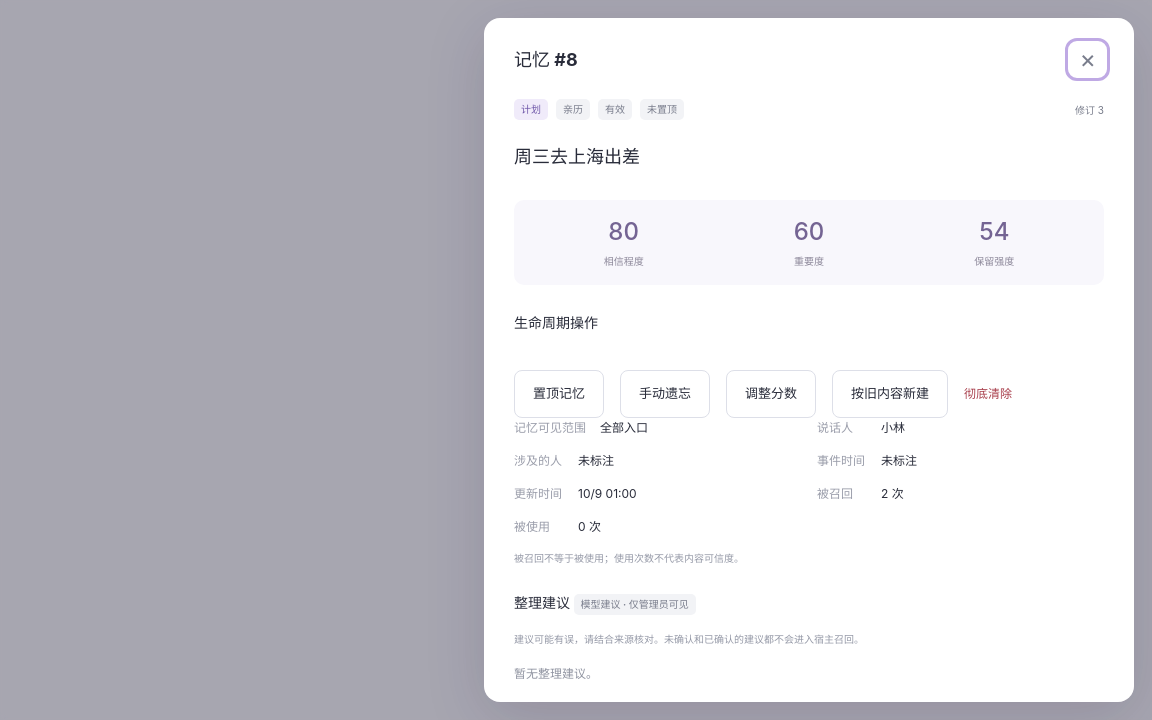
Test case: 无效分数 -1 不发送请求
This screenshot has width=1152, height=720.
Expected: the text "周三去上海出差" is shown, [514,146,640,167]
Click the button "调整分数". click: (771, 394)
box: [726,370,816,418]
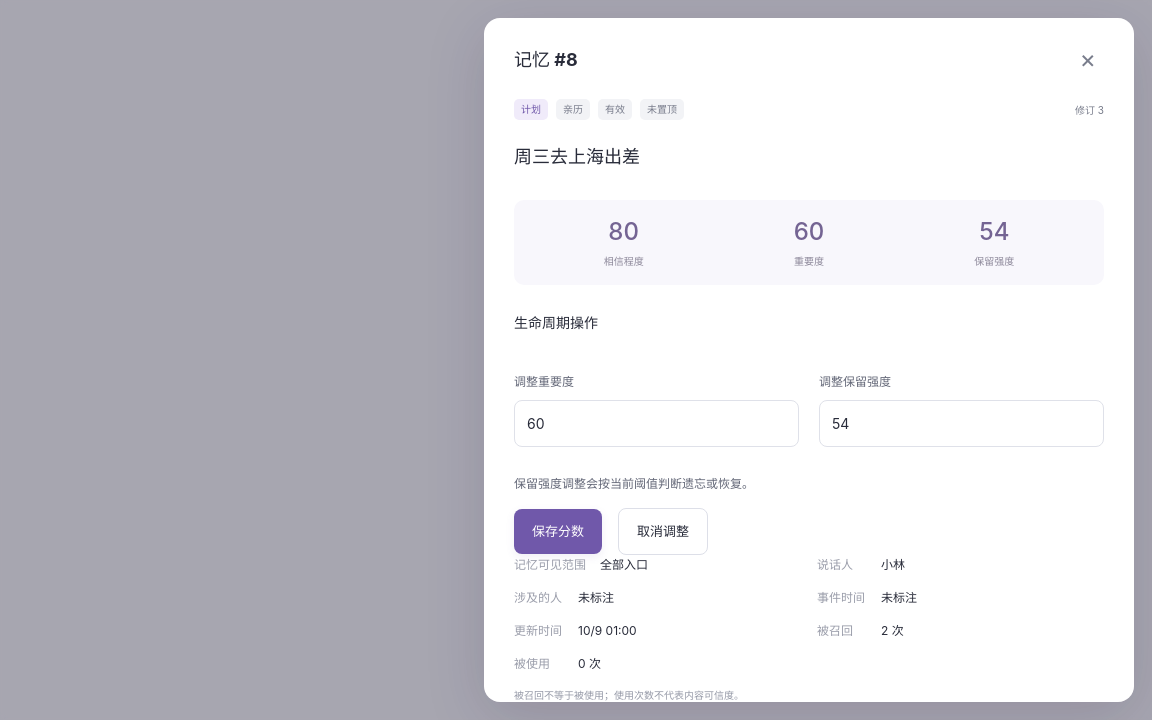
Replace the text in the number field labelled "调整重要度" with "-1". click: (656, 424)
box: [514,400,799,447]
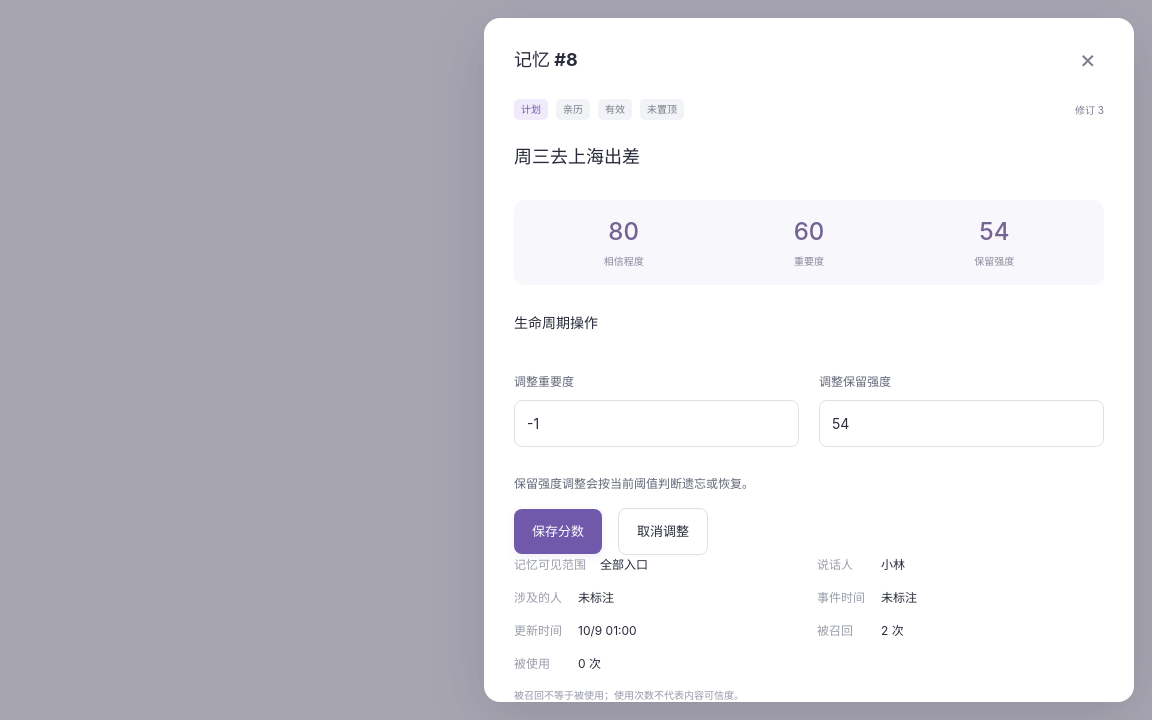
Click the button "保存分数". click: (558, 532)
box: [514,509,602,554]
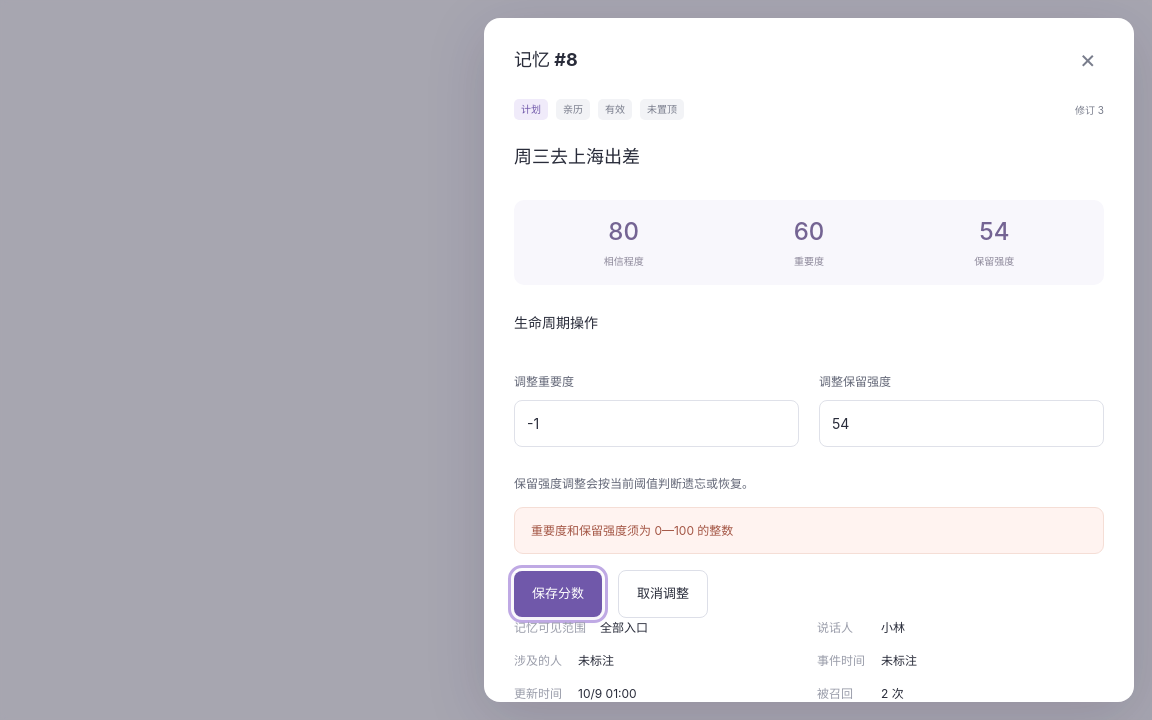
Expected: the message shows "0—100 的整数", [531,523,733,538]
